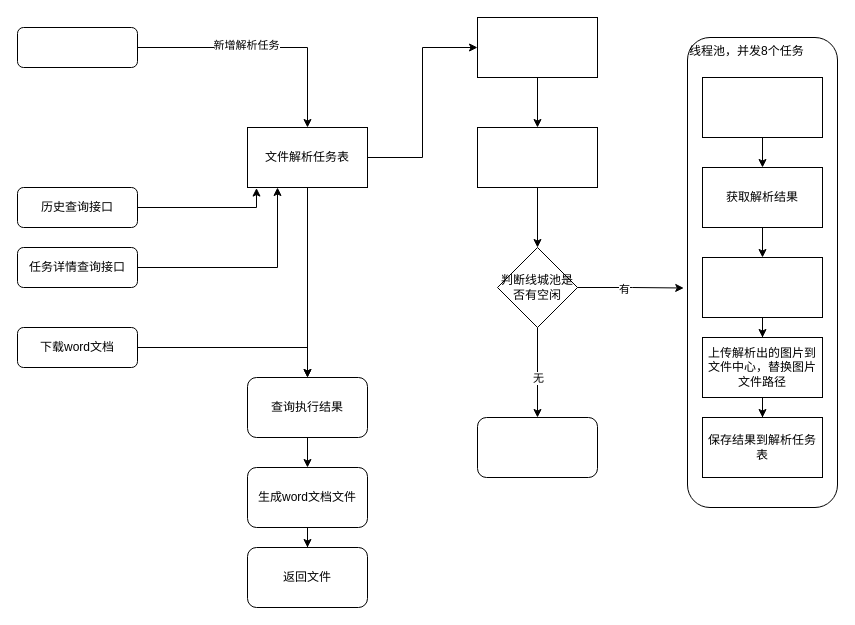
This 855x625 diagram has some shape labels left out. Here are the shapes that lost their labels. From the top down, the centre of each, then its label:
At [77,47]: "新建解析任务接口".
At [537,47]: "定时任务".
At [762,107]: "调用mineru接口 无异步接口，实时调用，注意超时时间设置为".
At [537,157]: "按解析任务生成时间排序，查询待解析文件".
At [762,287]: "为解析的分块结果添加雪花算法唯一主键，用于页面修改".
At [537,447]: "结束任务，等待下次执行".
